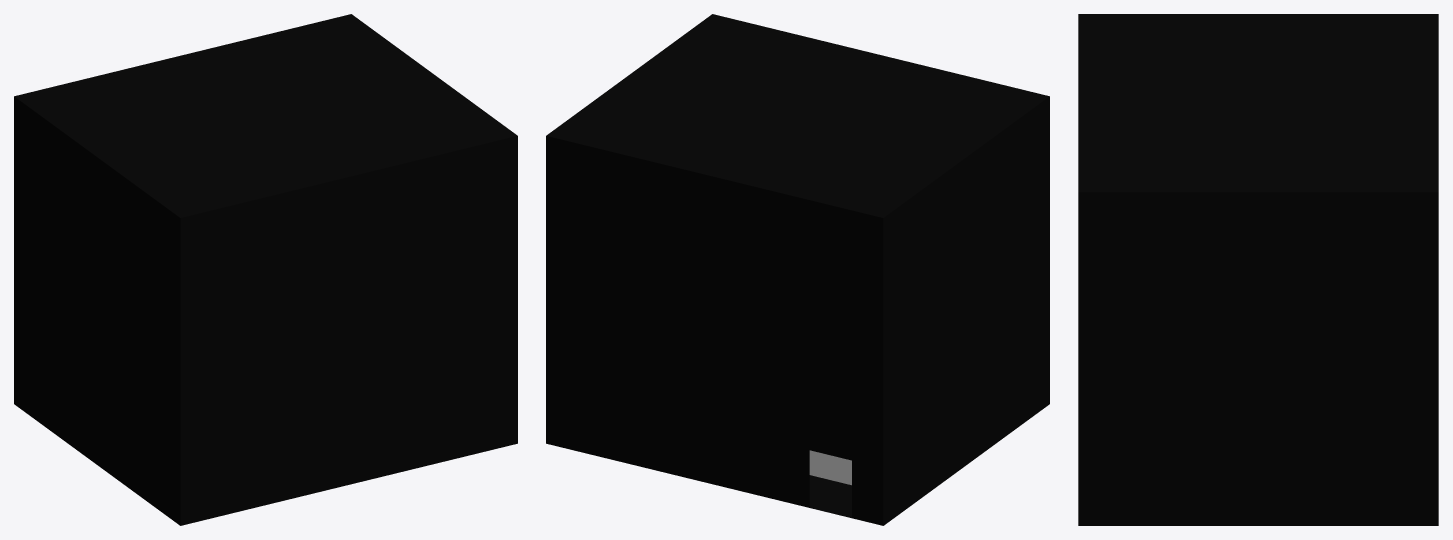
Rendered from house.glb.
The picture shows the model from 3 angles, left to right: view 1: azimuth 30°, elevation 25°; view 2: azimuth 150°, elevation 25°; view 3: azimuth 270°, elevation 25°; orthographic projection. The views are drawn at different scales.
Parts seen in each view (by area): view 1: Plane; view 2: Plane, w2; view 3: Plane.
Boxes of the visible parts, left/top/right/bottom form: Plane: left=14, top=14, right=517, bottom=525; Plane: left=546, top=14, right=1049, bottom=525; w2: left=809, top=450, right=851, bottom=485; Plane: left=1078, top=14, right=1438, bottom=525.
Size of the model in its own units: 24.25 by 21.14 by 20.71.
1 material, 1 textured.
